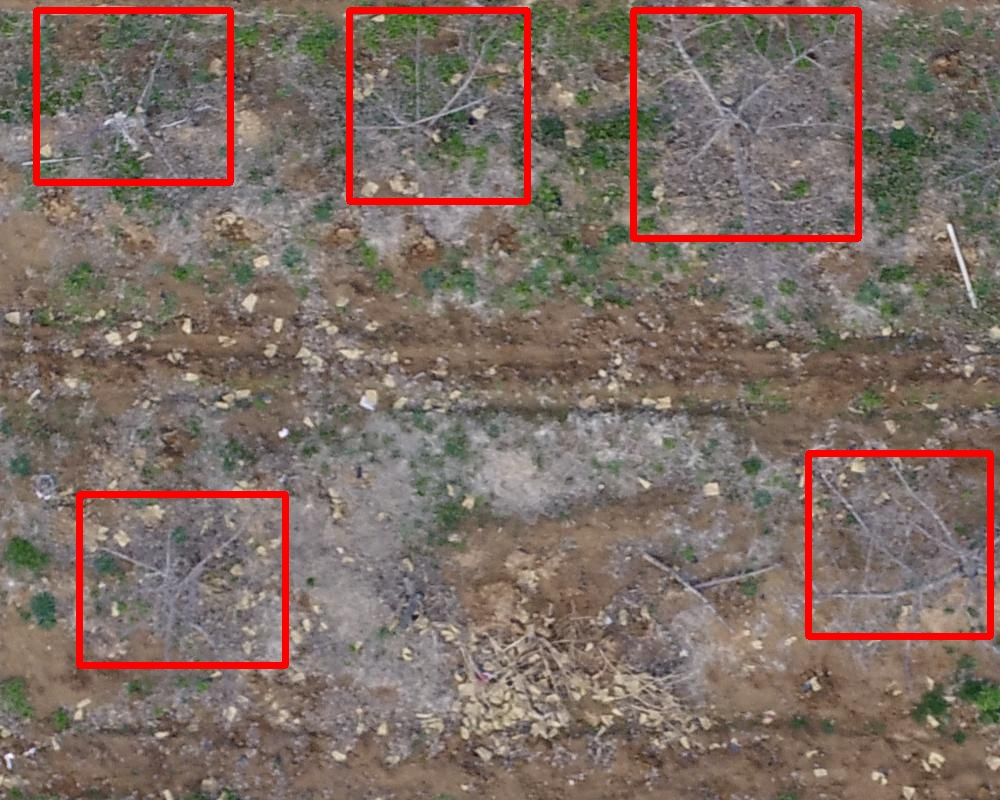apple: (633, 10, 858, 238), (79, 494, 285, 665), (349, 10, 527, 201), (36, 10, 230, 182), (808, 453, 990, 636)
